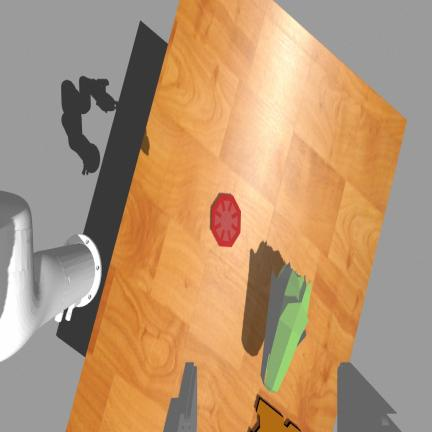cheese: (251, 397, 300, 431)
lettuce: (262, 264, 310, 392)
sliced_tomato: (212, 194, 240, 246)
